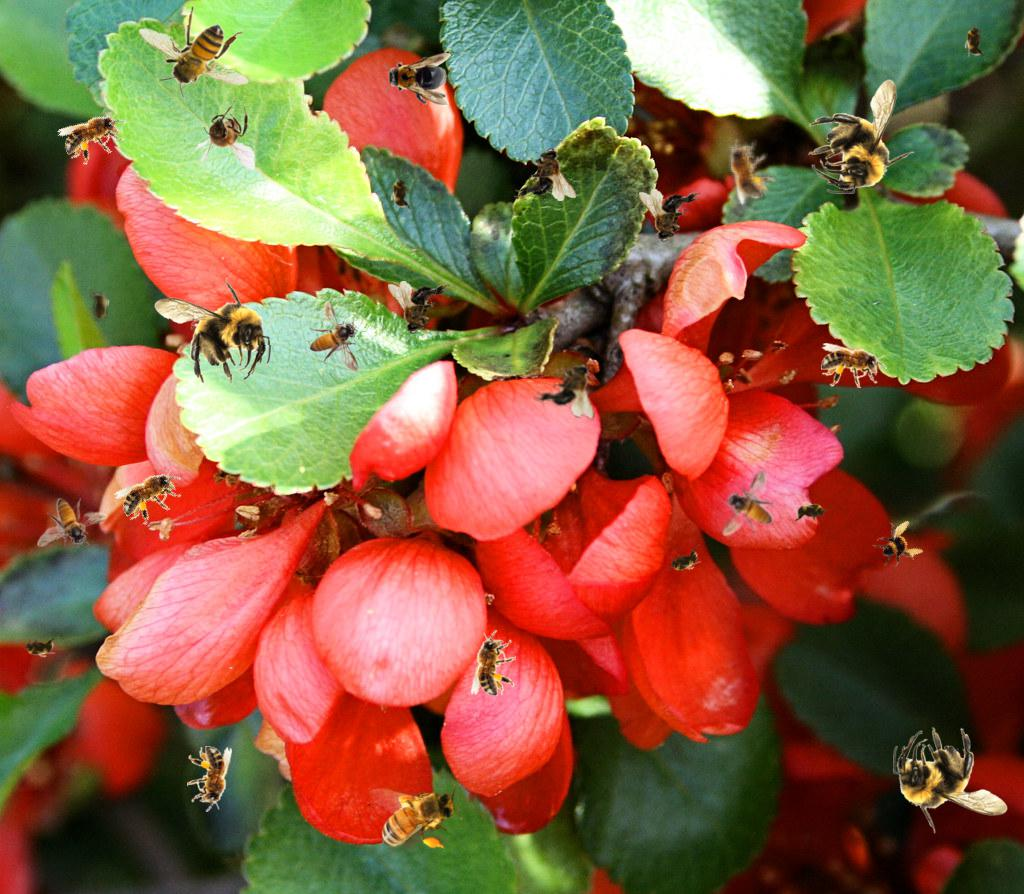Bee: (153, 276, 272, 387), (808, 79, 915, 194), (893, 727, 1008, 834), (138, 5, 249, 99), (704, 468, 792, 551), (369, 784, 462, 852), (112, 457, 192, 532), (55, 99, 135, 172), (532, 352, 609, 422), (714, 129, 782, 208), (194, 100, 255, 170), (866, 513, 928, 575), (309, 301, 359, 372), (37, 498, 108, 548), (383, 53, 451, 105), (514, 148, 576, 201), (639, 189, 701, 242), (388, 281, 450, 334), (471, 630, 516, 696), (821, 343, 887, 388), (187, 746, 232, 812), (661, 544, 707, 578), (88, 287, 110, 327), (19, 636, 59, 658), (964, 21, 986, 61), (791, 501, 831, 523), (390, 173, 412, 213)
